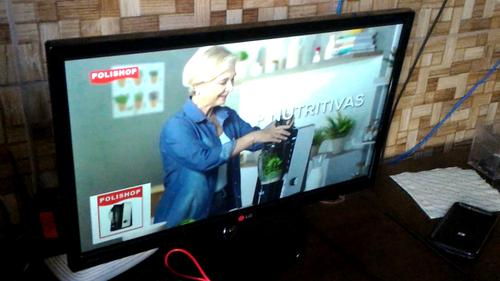Polishop #1: (89, 182, 151, 245)
